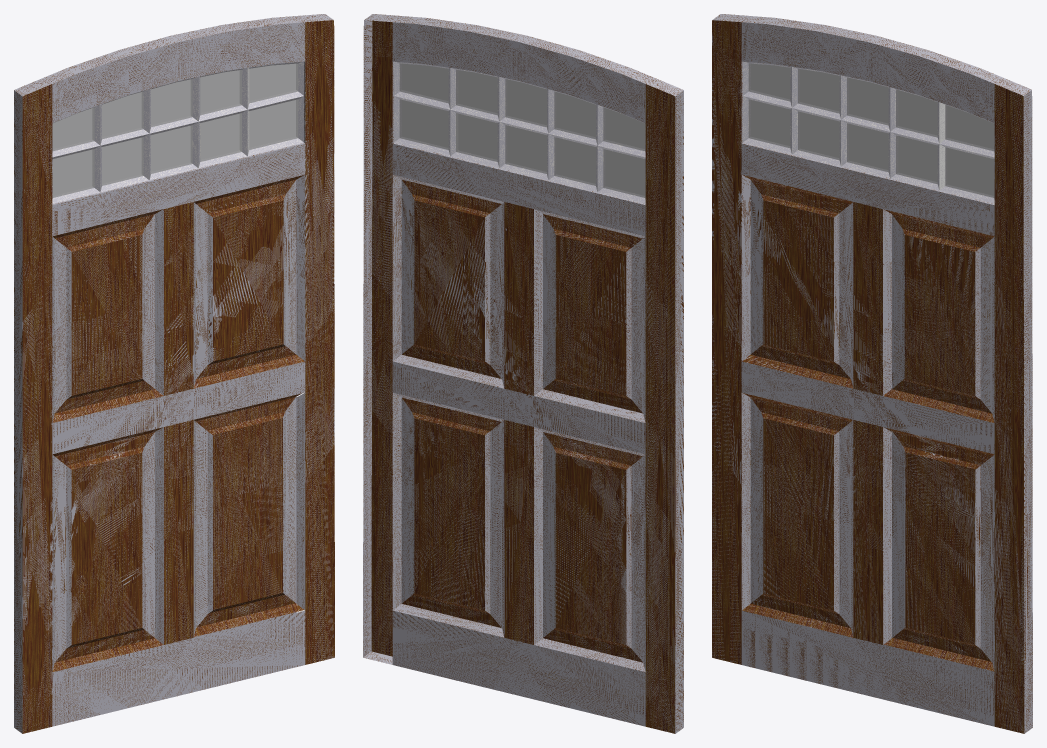
File: board.dae
The picture shows the model from 3 angles, left to right: view 1: azimuth 30°, elevation 25°; view 2: azimuth 150°, elevation 25°; view 3: azimuth 330°, elevation 25°; orthographic projection.
Visible parts, largest first — view 1: group_5.101, group_5.079, group_5.080, group_5.114, group_5.165, group_5.107, group_5.104, group_5.095, group_5.081, group_5.078, group_5.113, group_5.110 (+27 smaller); view 2: group_5.101, group_5.065, group_5.099, group_5.098, group_5.080, group_5.096, group_5.097, group_5.095, group_5.066, group_5.064, group_5.074, group_5.083 (+18 smaller); view 3: group_5.101, group_5.080, group_5.079, group_5.114, group_5.165, group_5.104, group_5.107, group_5.081, group_5.095, group_5.078, group_5.113, group_5.111 (+27 smaller).
Boxes of the visible parts, <box> form: group_5.101: <box>14,14,333,733</box>; group_5.079: <box>22,84,52,733</box>; group_5.080: <box>305,20,334,664</box>; group_5.114: <box>52,427,163,671</box>; group_5.165: <box>194,393,303,636</box>; group_5.107: <box>52,209,163,422</box>; group_5.104: <box>193,175,304,388</box>; group_5.095: <box>52,61,303,203</box>; group_5.081: <box>52,361,305,454</box>; group_5.078: <box>164,420,193,644</box>; group_5.113: <box>164,202,193,395</box>; group_5.110: <box>283,393,305,610</box>; group_5.101: <box>363,14,683,733</box>; group_5.065: <box>645,84,675,733</box>; group_5.099: <box>543,432,642,662</box>; group_5.098: <box>402,397,501,627</box>; group_5.080: <box>371,20,392,656</box>; group_5.096: <box>543,214,642,413</box>; group_5.097: <box>402,179,501,378</box>; group_5.095: <box>394,61,645,203</box>; group_5.066: <box>504,420,533,644</box>; group_5.064: <box>504,202,533,395</box>; group_5.074: <box>399,99,448,149</box>; group_5.083: <box>402,100,447,146</box>; group_5.101: <box>712,14,1032,733</box>; group_5.080: <box>994,84,1024,733</box>; group_5.079: <box>712,20,741,664</box>; group_5.114: <box>742,392,853,637</box>; group_5.165: <box>884,428,994,671</box>; group_5.104: <box>883,209,994,422</box>; group_5.107: <box>742,175,853,388</box>; group_5.081: <box>741,361,994,454</box>; group_5.095: <box>743,61,994,203</box>; group_5.078: <box>853,420,882,644</box>; group_5.113: <box>853,202,882,395</box>; group_5.111: <box>741,393,763,610</box>.
Bounding box in the file's own units: 1.07 × 0.0508 × 2.13.
8 materials, 3 textured.
